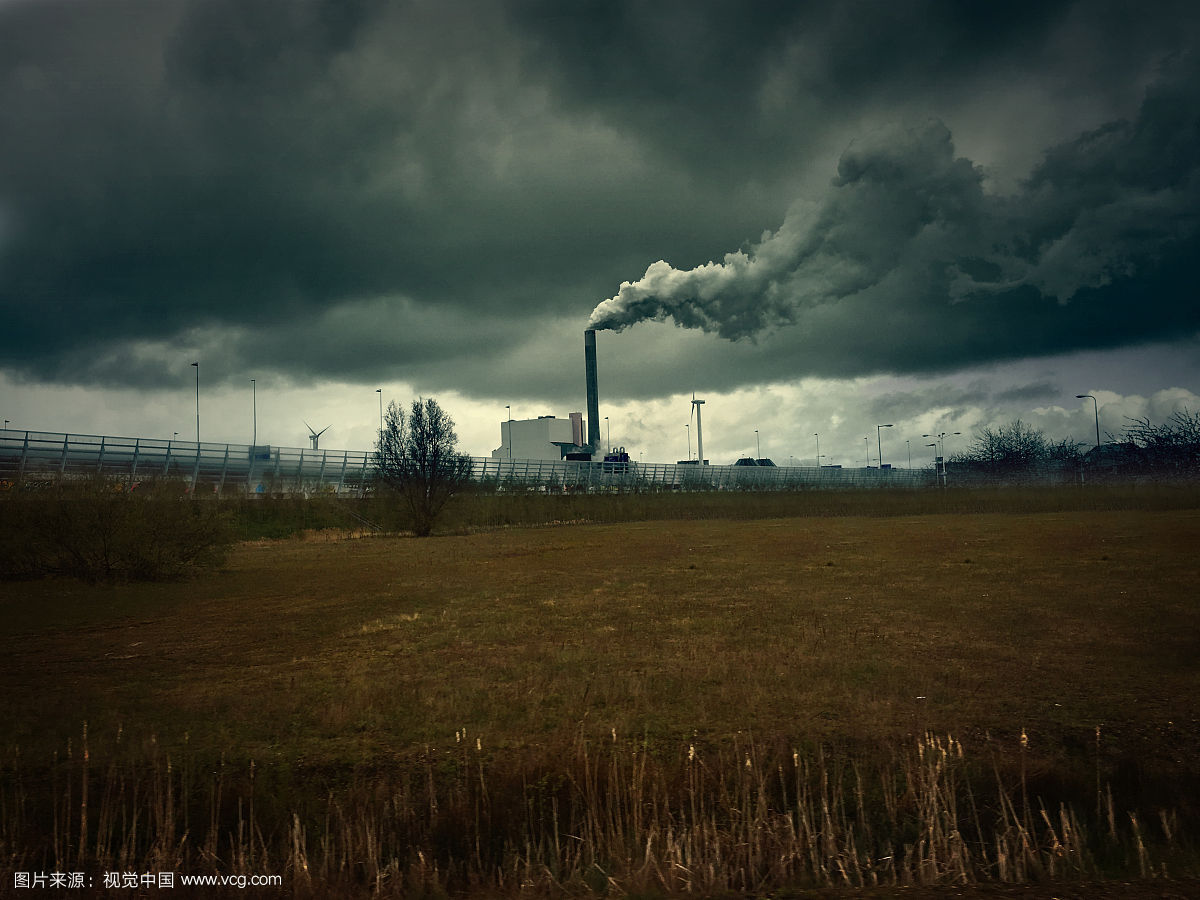dust: (566, 211, 896, 359)
